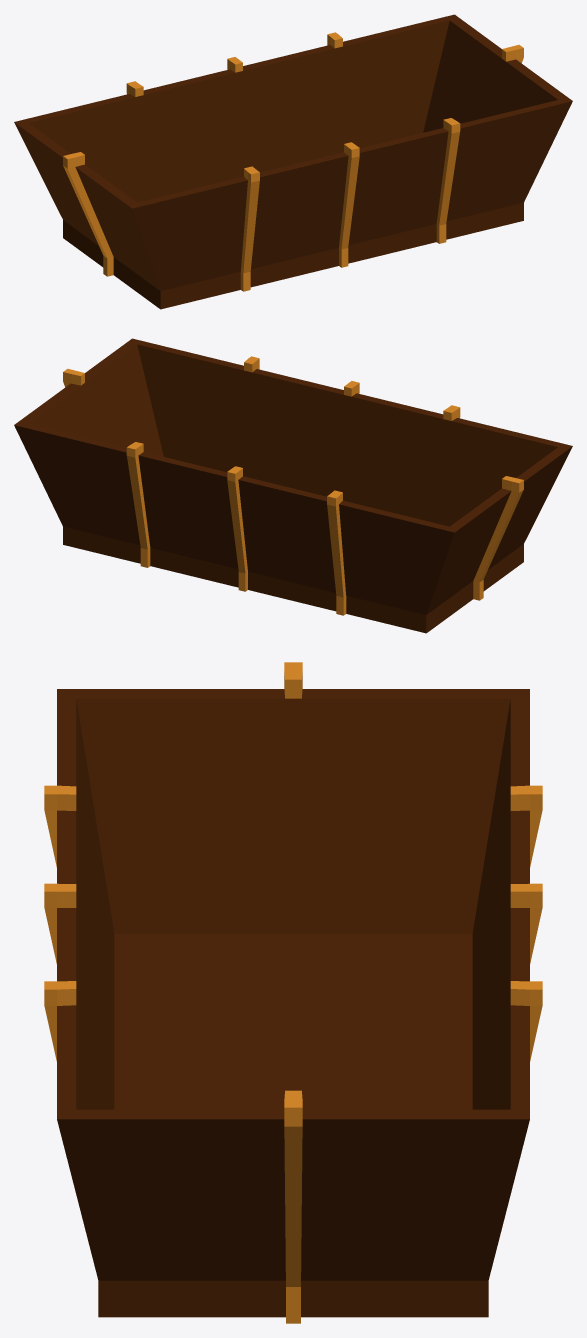
The model's file is basket.fbx.
3 views of the same model, one above another, from view 1: azimuth 30°, elevation 25°; view 2: azimuth 150°, elevation 25°; view 3: azimuth 270°, elevation 25° (orthographic). The views are drawn at different scales.
Parts seen in each view (by area): view 1: basket; view 2: basket; view 3: basket.
Part boxes in pixels (x1,y1,x2,y2): basket: (14, 14, 572, 309); basket: (14, 338, 572, 633); basket: (44, 662, 542, 1323).
Size of the model in its own units: 3.78 by 1.01 by 1.79.
